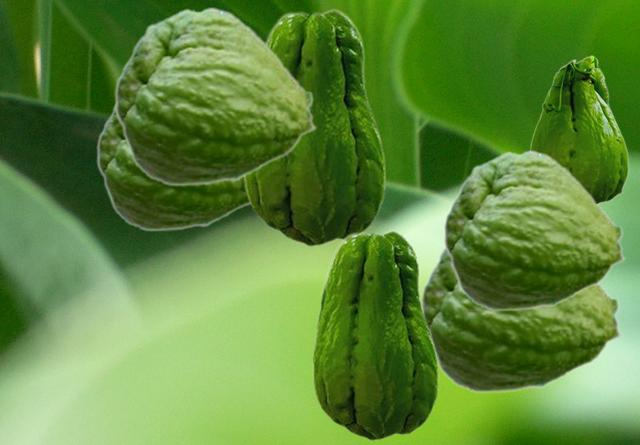sayote: (114, 6, 317, 186), (243, 8, 385, 246), (421, 244, 623, 393), (443, 149, 626, 311), (312, 229, 438, 440), (96, 104, 249, 231), (529, 55, 628, 203)
